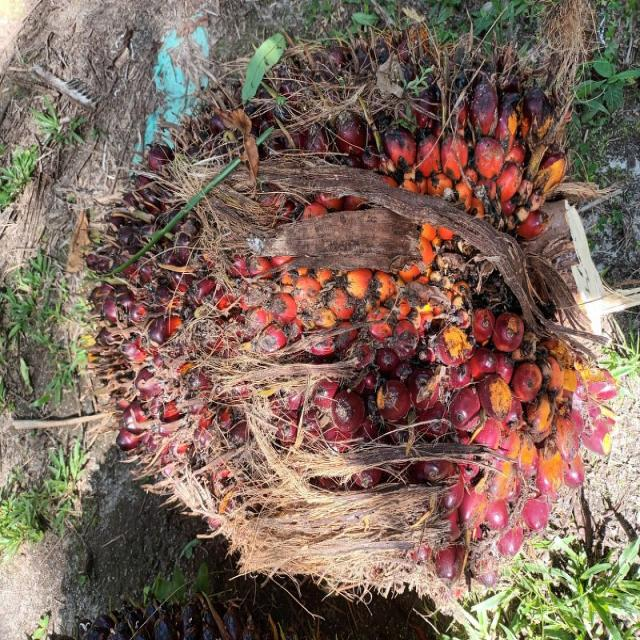fraksi 1: (73, 28, 640, 592)
